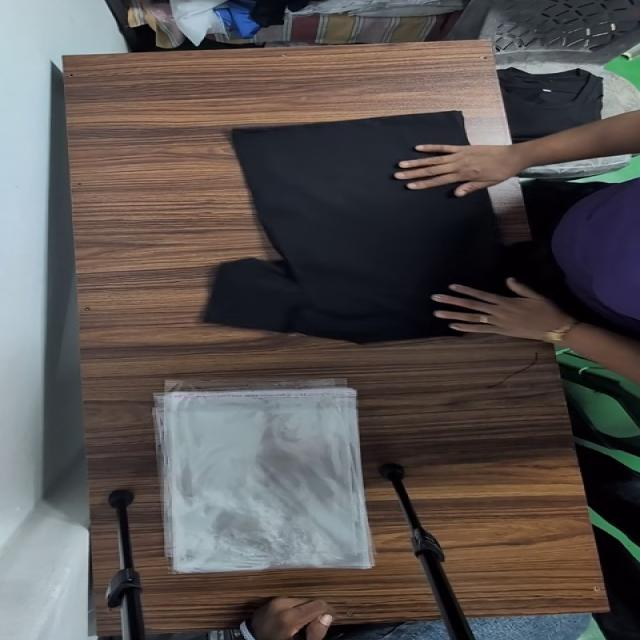new-garment: (207, 112, 501, 343)
